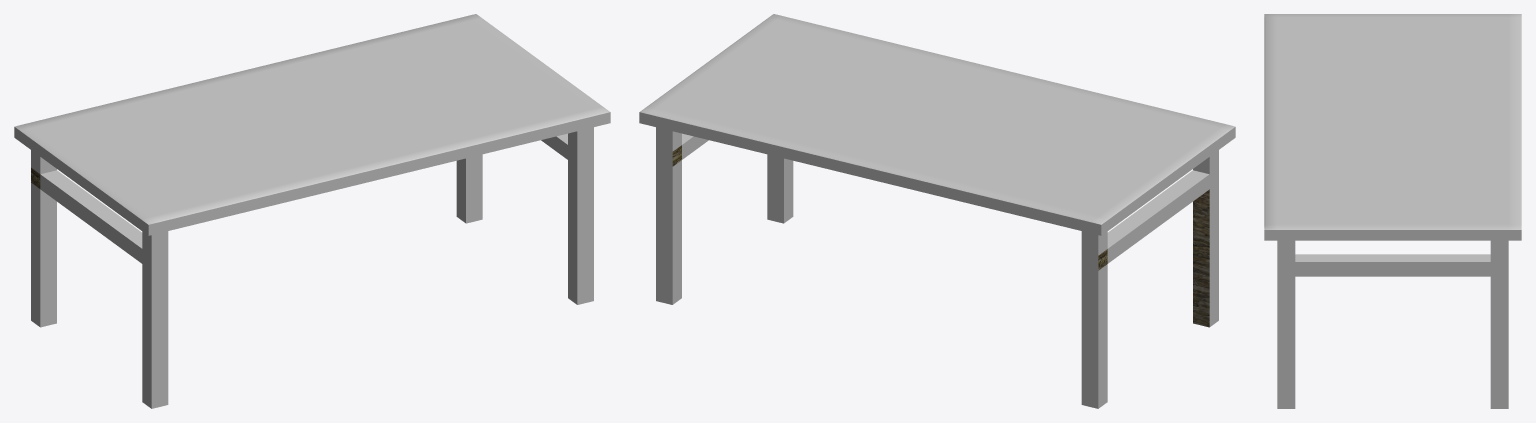
Rendered from table_big_fbx.FBX.
The picture shows the model from 3 angles, left to right: view 1: azimuth 30°, elevation 25°; view 2: azimuth 150°, elevation 25°; view 3: azimuth 270°, elevation 25°; orthographic projection. The views are drawn at different scales.
Parts seen in each view (by area): view 1: table_big; view 2: table_big; view 3: table_big.
Part boxes in pixels (box(x1,y1,x2,y2)): table_big: box(14, 14, 610, 408); table_big: box(639, 14, 1235, 408); table_big: box(1264, 14, 1521, 408).
Size of the model in its own units: 277 by 139 by 110.
